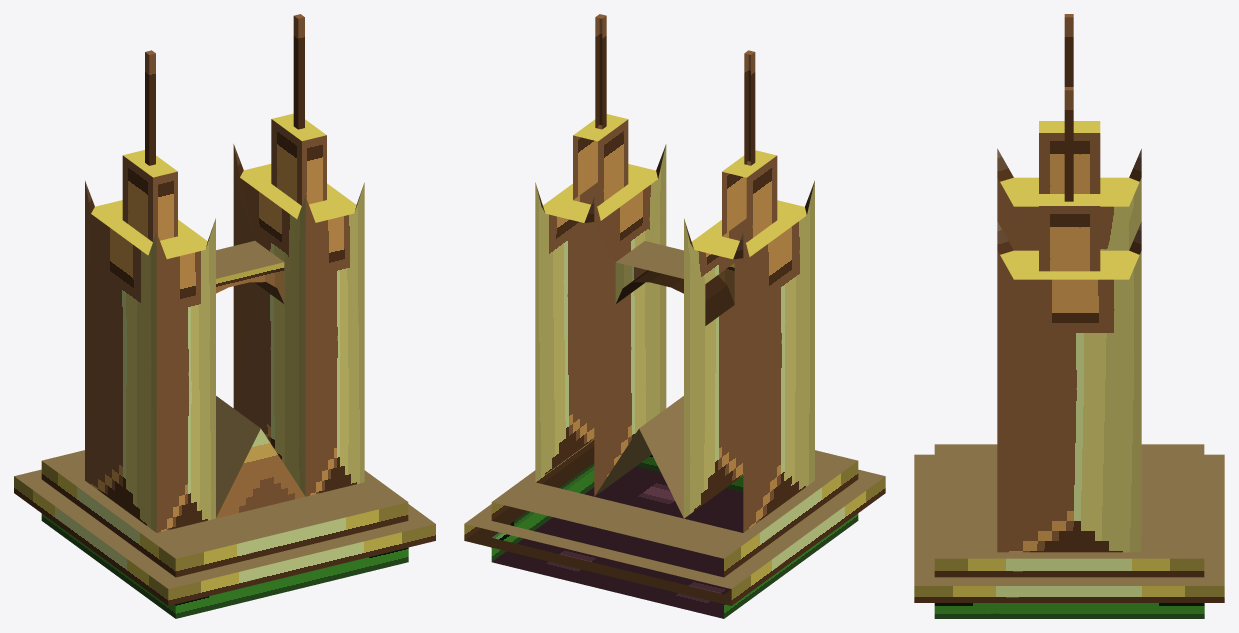
File: top_bonus_3.obj
3 renders of one model, left to right at view 1: azimuth 30°, elevation 25°; view 2: azimuth 150°, elevation 25°; view 3: azimuth 270°, elevation 25°, orthographic.
Visible parts, largest first — view 1: top_bonus_3_part0; view 2: top_bonus_3_part0, top_bonus_3_part1; view 3: top_bonus_3_part0.
Boxes of the visible parts, x1,y1,x2,y2 form: top_bonus_3_part0: (14, 14, 435, 618); top_bonus_3_part0: (464, 14, 885, 618); top_bonus_3_part1: (492, 466, 743, 618); top_bonus_3_part0: (914, 14, 1224, 618).
Size of the model in its own units: 263 by 477 by 263.
Materials: 2 (2 with a texture image).
